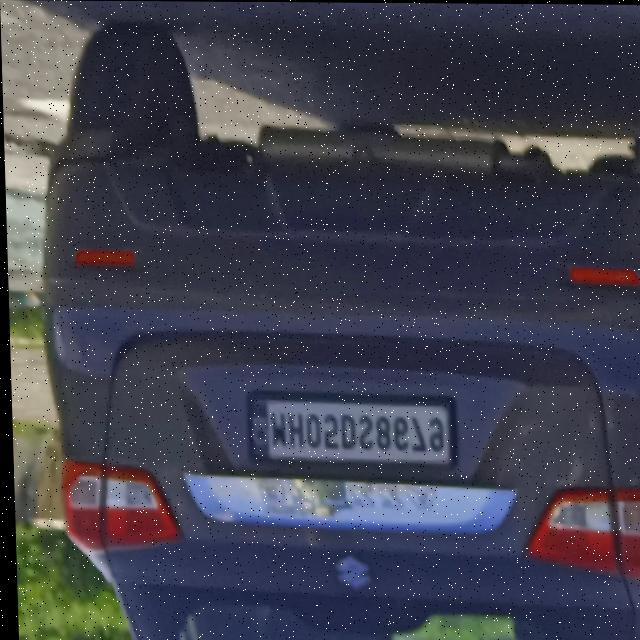plate: (238, 383, 462, 474)
